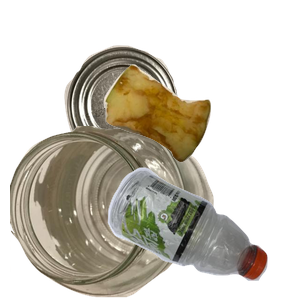glass: (10, 126, 216, 300)
metal: (62, 43, 232, 198)
plastic: (105, 165, 300, 300)
trash: (101, 62, 300, 217)
